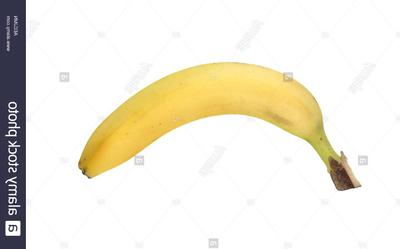banana: (0, 0, 400, 249)
